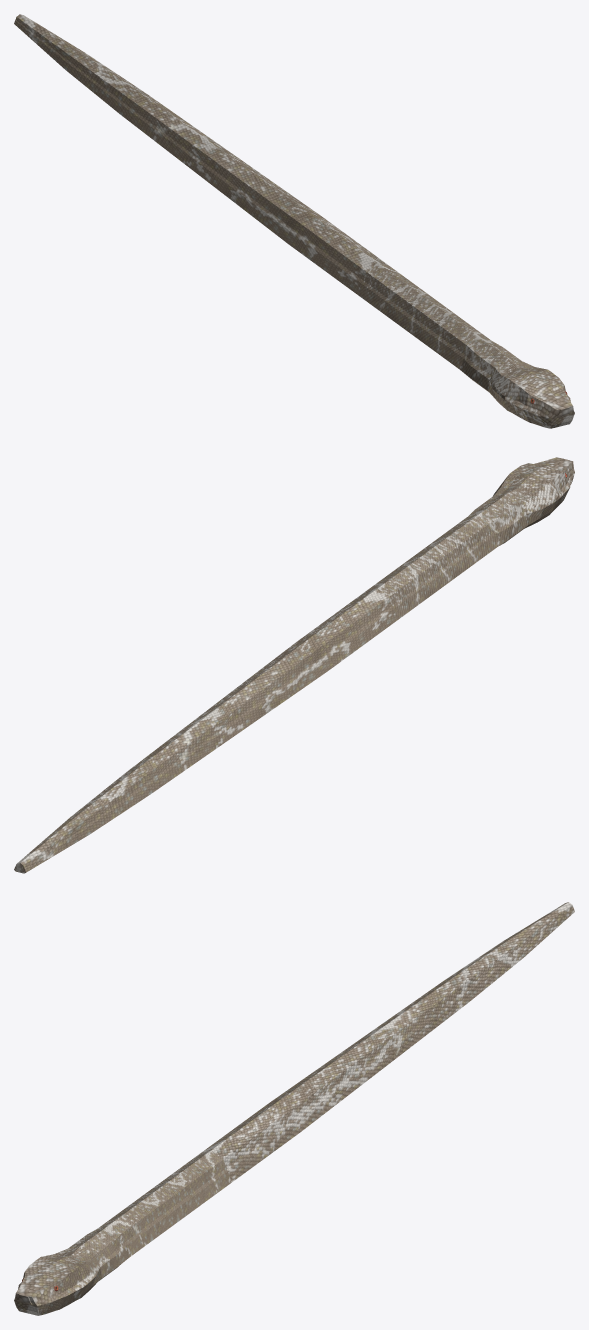
3 renders of one model, top to bottom at view 1: azimuth 30°, elevation 25°; view 2: azimuth 150°, elevation 25°; view 3: azimuth 330°, elevation 25°, orthographic.
Parts seen in each view (by area): view 1: Cube; view 2: Cube; view 3: Cube.
Part boxes in pixels (x1,y1,x2,y2): Cube: (14,14,574,428); Cube: (14,457,574,873); Cube: (14,902,574,1315).
Size of the model in its own units: 2 by 1.18 by 34.72.
Materials: 2 (2 with a texture image).
